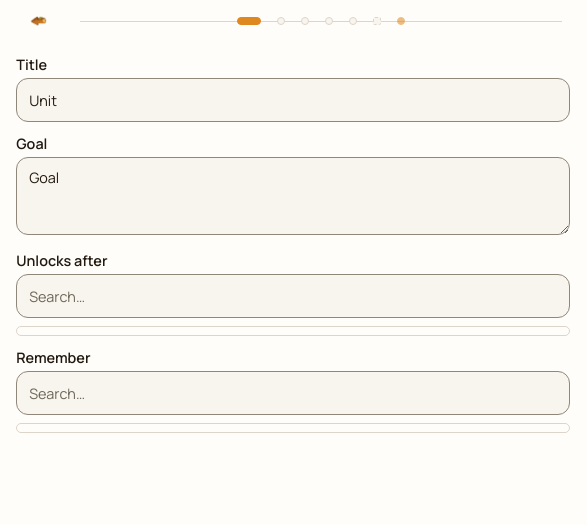
Test: the coverage grid › names the target on a word its unit caps
Click the button named "Page 6 of 6" at (377,21), box left=373, top=17, right=381, bottom=25
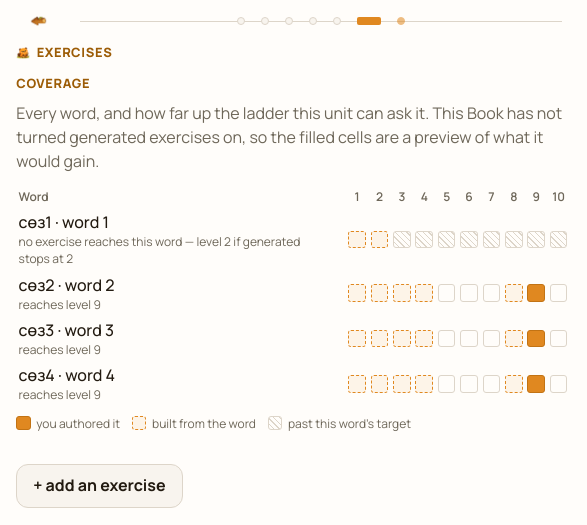
Now the text "stops at 2" is shown, box left=19, top=250, right=73, bottom=267
